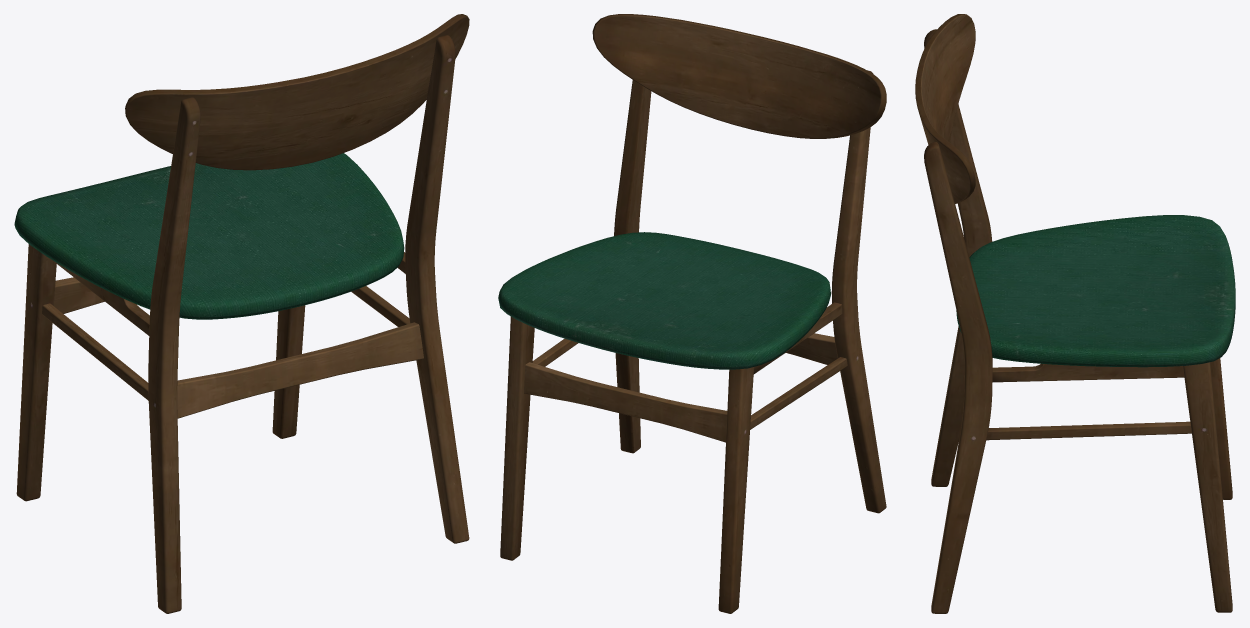
Rendered from chair_02.glb.
3 renders of one model, left to right at view 1: azimuth 30°, elevation 25°; view 2: azimuth 150°, elevation 25°; view 3: azimuth 270°, elevation 25°, orthographic. The views are drawn at different scales.
Parts seen in each view (by area): view 1: Chair_Chair_0; view 2: Chair_Chair_0; view 3: Chair_Chair_0.
Boxes of the visible parts, x1=… form: Chair_Chair_0: x1=14, y1=14, x2=469, y2=613; Chair_Chair_0: x1=498, y1=14, x2=886, y2=613; Chair_Chair_0: x1=915, y1=14, x2=1235, y2=613.
Bounding box in the file's own units: 0.5229 × 0.7577 × 0.4671.
1 material, 1 textured.
